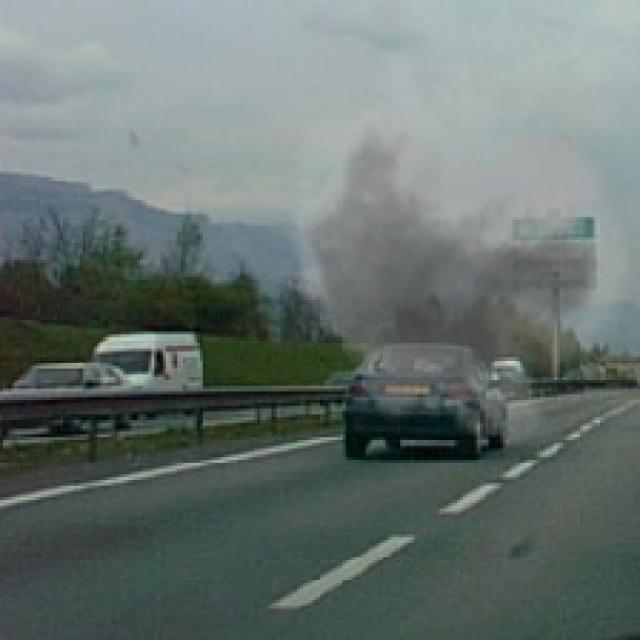Smoke: (274, 49, 632, 458)
